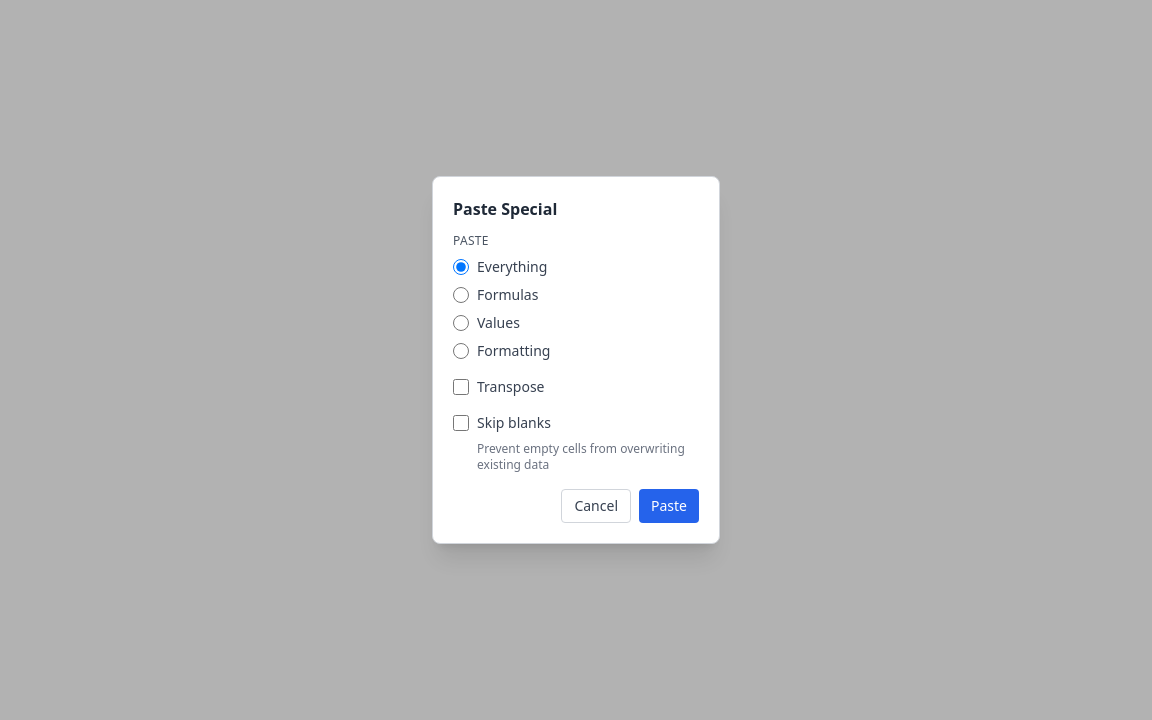
PasteSpecialModal — Extended Options › selects "Formatting" mode when clicked
The image size is (1152, 720).
Click the radio button labelled "Formatting".
click(461, 351)  # box [453,343,469,359]
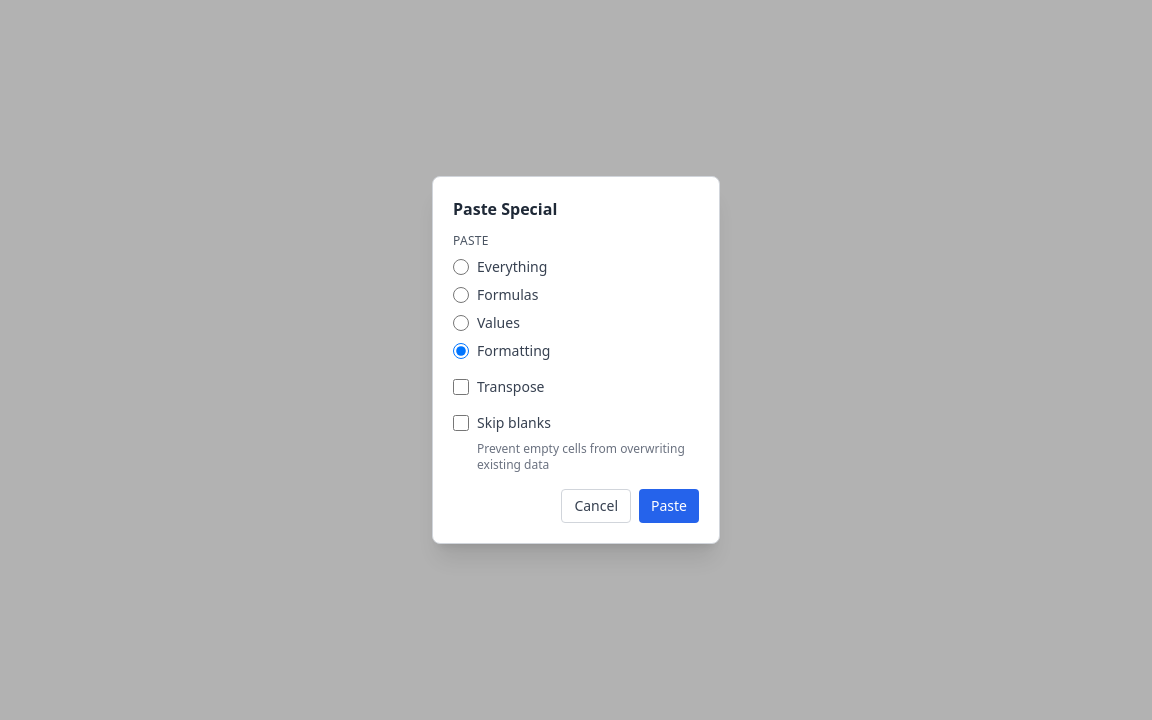
Check: the radio button labelled "Formatting" is checked, box [453,343,469,359]
